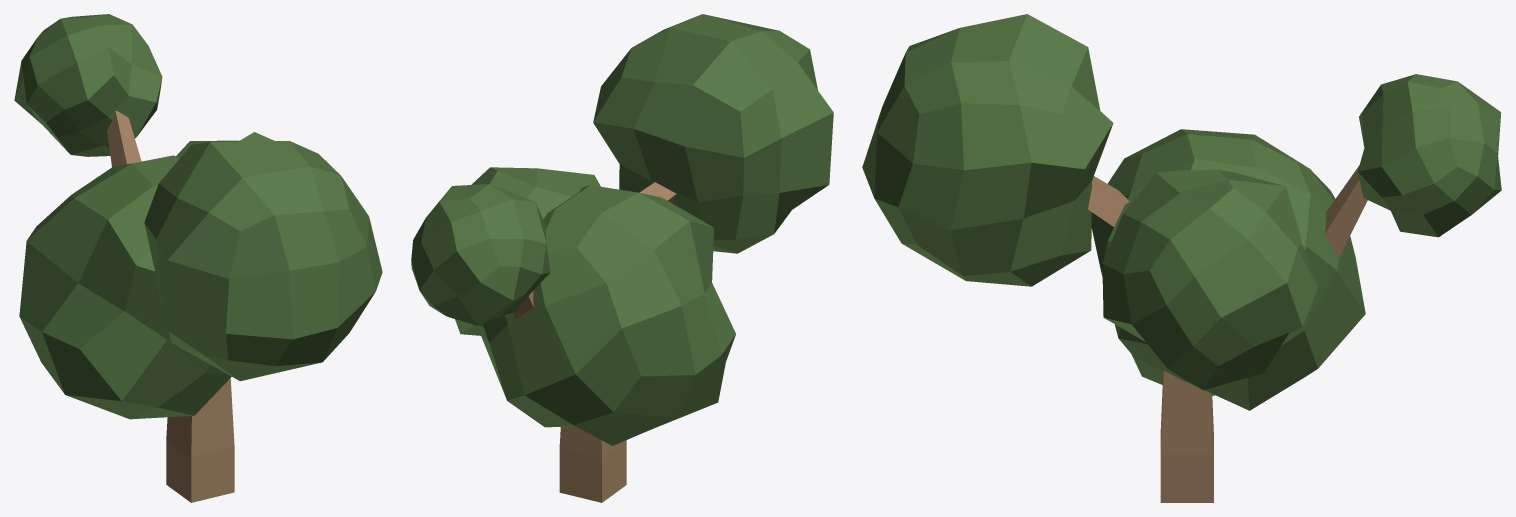
The model's file is Bush 1.fbx.
The picture shows the model from 3 angles, left to right: view 1: azimuth 30°, elevation 25°; view 2: azimuth 150°, elevation 25°; view 3: azimuth 270°, elevation 25°; orthographic projection. The views are drawn at different scales.
Parts seen in each view (by area): view 1: Cube.004; view 2: Cube.004; view 3: Cube.004.
Boxes of the visible parts, <box> form: Cube.004: <box>14,14,382,502</box>; Cube.004: <box>411,14,833,502</box>; Cube.004: <box>862,14,1501,502</box>.
Bounding box in the file's own units: 80.48 × 112 × 146.
